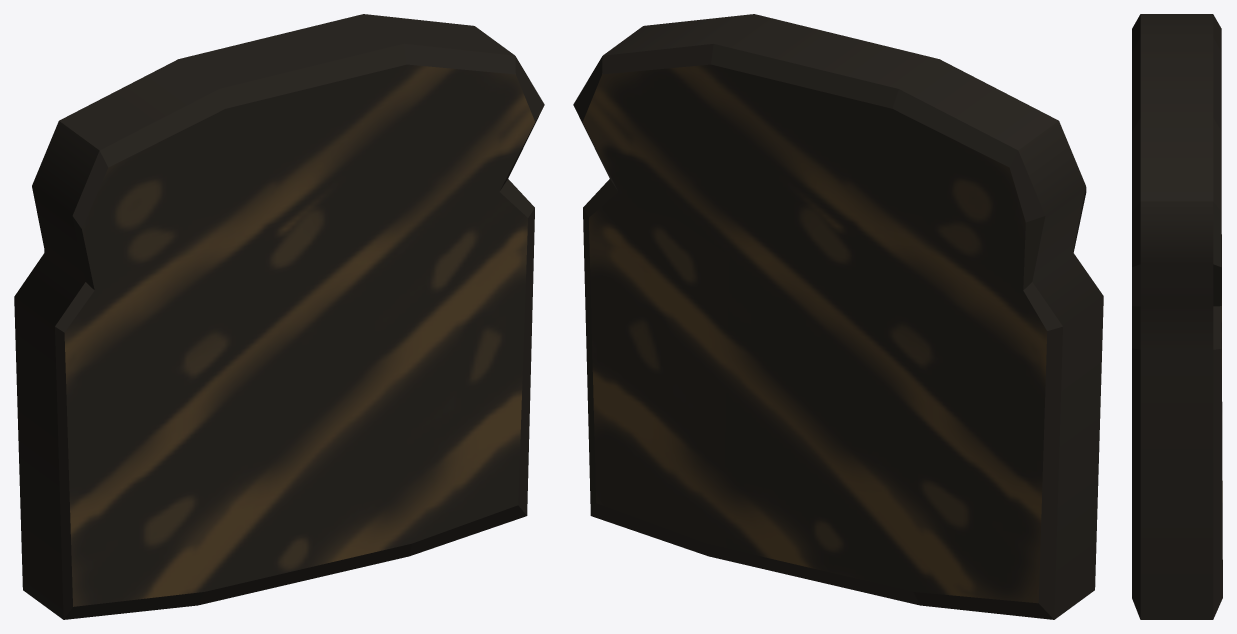
Rendered from BurntToast_fbx.fbx.
The picture shows the model from 3 angles, left to right: view 1: azimuth 30°, elevation 25°; view 2: azimuth 150°, elevation 25°; view 3: azimuth 270°, elevation 25°; orthographic projection. The views are drawn at different scales.
Parts seen in each view (by area): view 1: burntToast; view 2: burntToast; view 3: burntToast.
Part boxes in pixels (x1,y1,x2,y2): burntToast: [14, 14, 544, 619]; burntToast: [573, 14, 1103, 619]; burntToast: [1132, 14, 1222, 619].
Bounding box in the file's own units: 0.6647 × 0.6663 × 0.1197.
